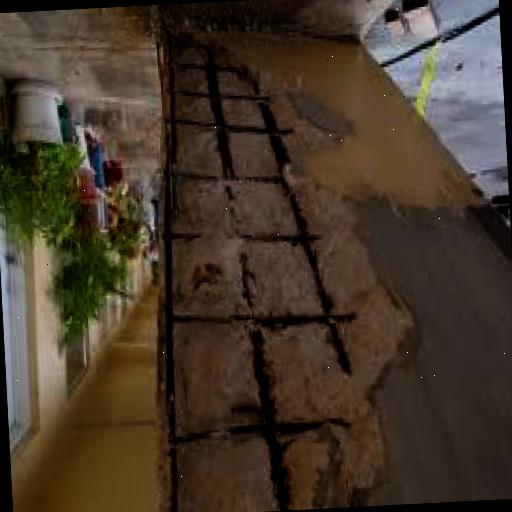spalling: (159, 25, 412, 512)
